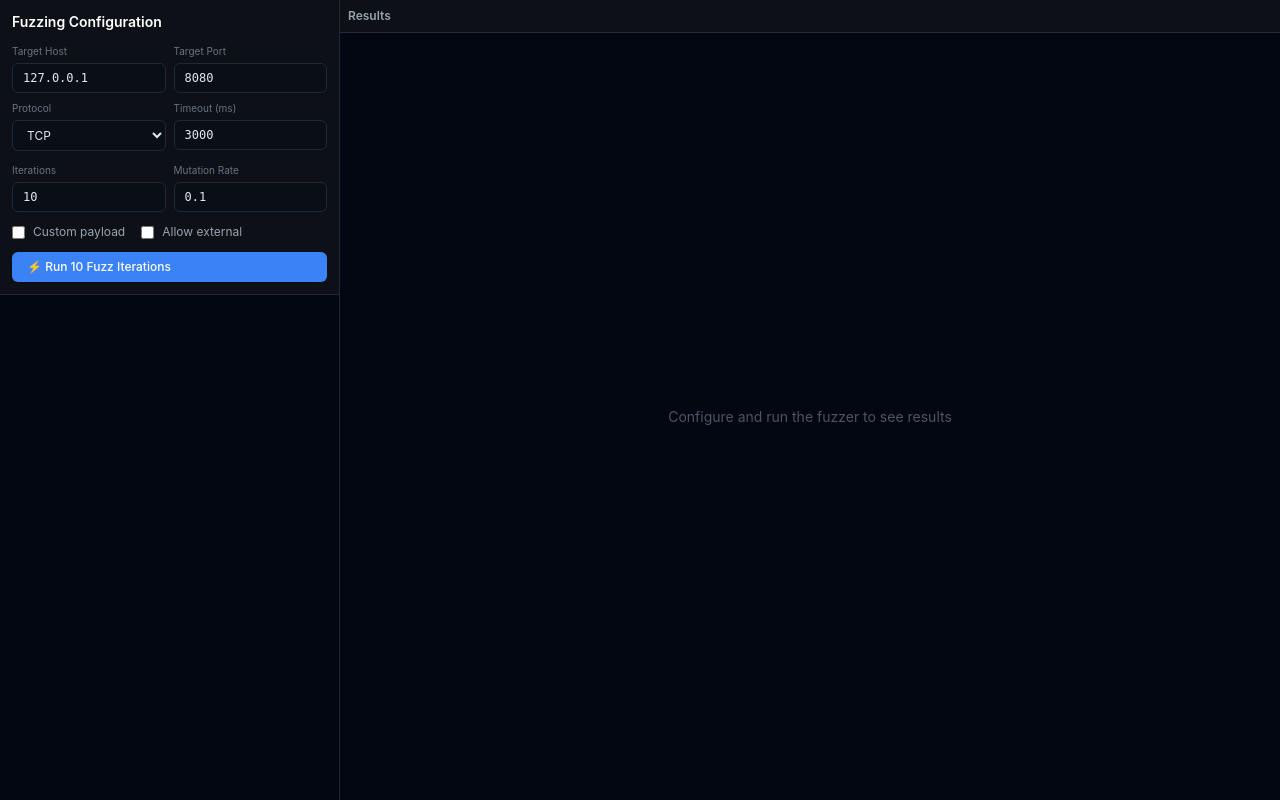
Test: FuzzerView › runs the fuzzer and shows results
Click the button "⚡ Run 10 Fuzz Iterations" at coordinates (170, 267), box top-left (12, 252), bottom-right (327, 282)
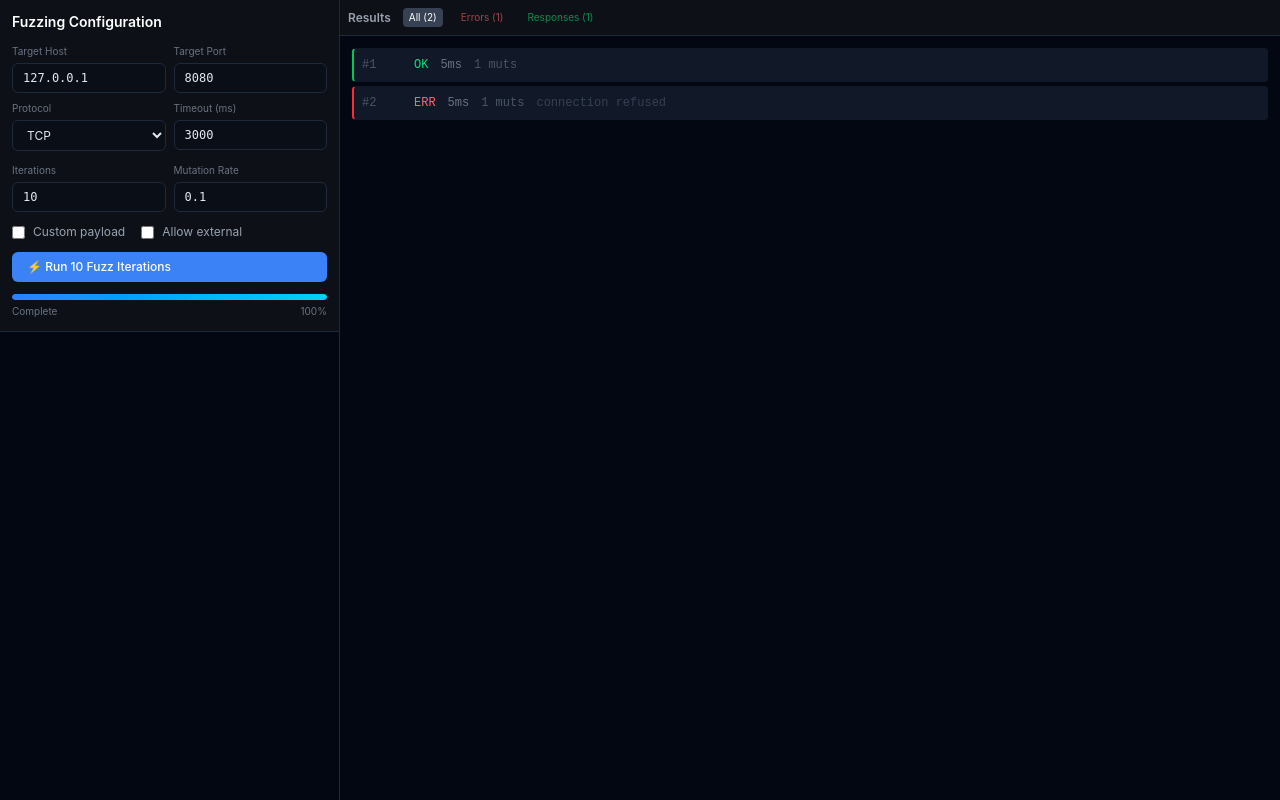
Expected: the text "Complete" is shown, top-left (12, 304), bottom-right (58, 319)
Expected: the button "All (2)" is shown, top-left (403, 8), bottom-right (443, 27)
Expected: the button "Errors (1)" is shown, top-left (455, 8), bottom-right (510, 27)
